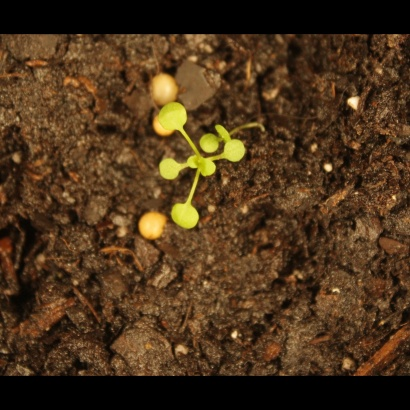leaf: (165, 197, 207, 235), (155, 98, 191, 139), (156, 155, 186, 184), (222, 133, 246, 167), (198, 154, 225, 181), (197, 130, 221, 157), (212, 123, 237, 148), (181, 153, 204, 176)
